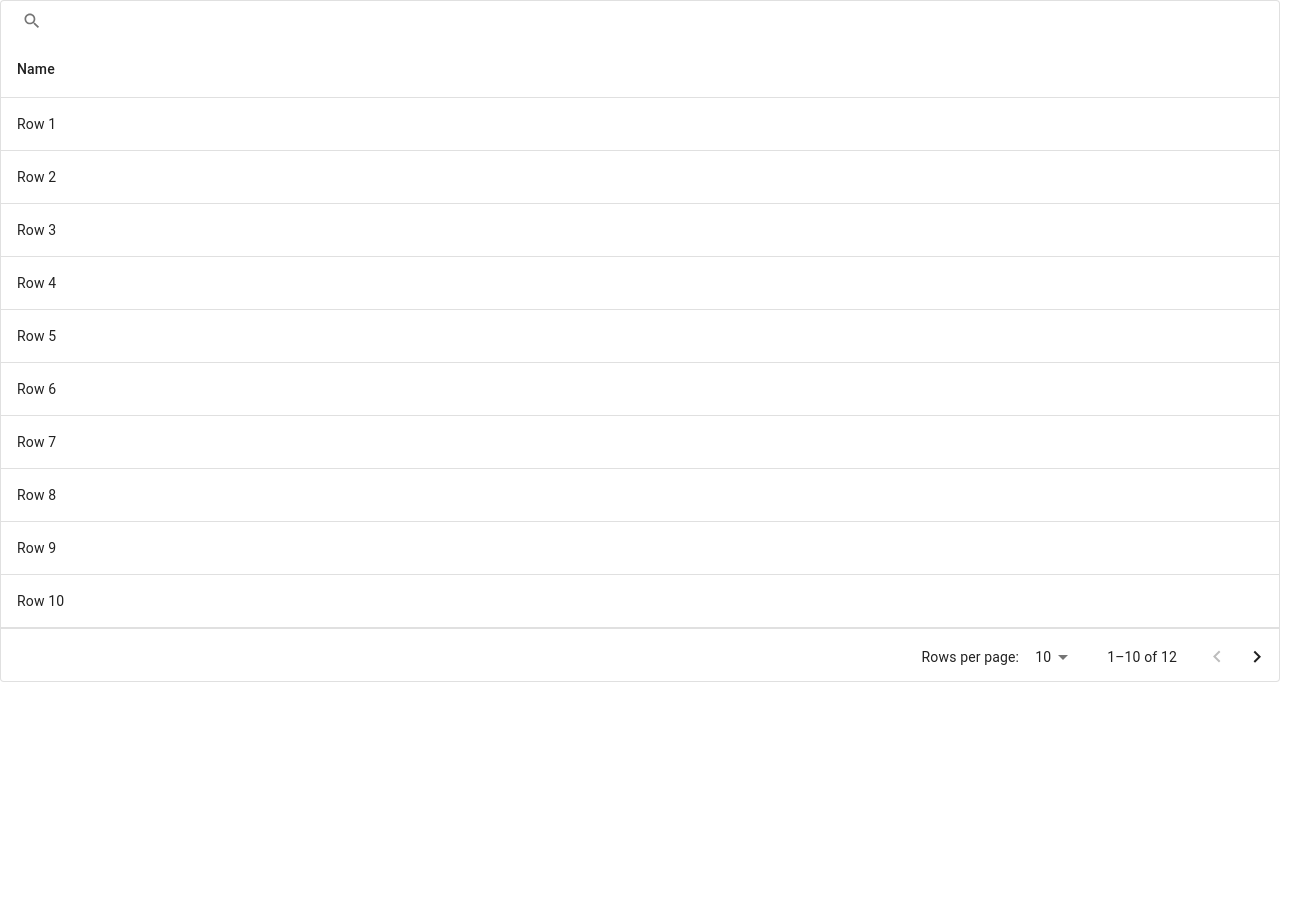
Test: ListTable › paginates rows on the client
Expected: the text "Row 1" is shown, [17,116,56,132]
Expected: the text "Row 11" is not shown
Click the button named "Go to next page" at (1257, 657), box [1237,637,1277,677]
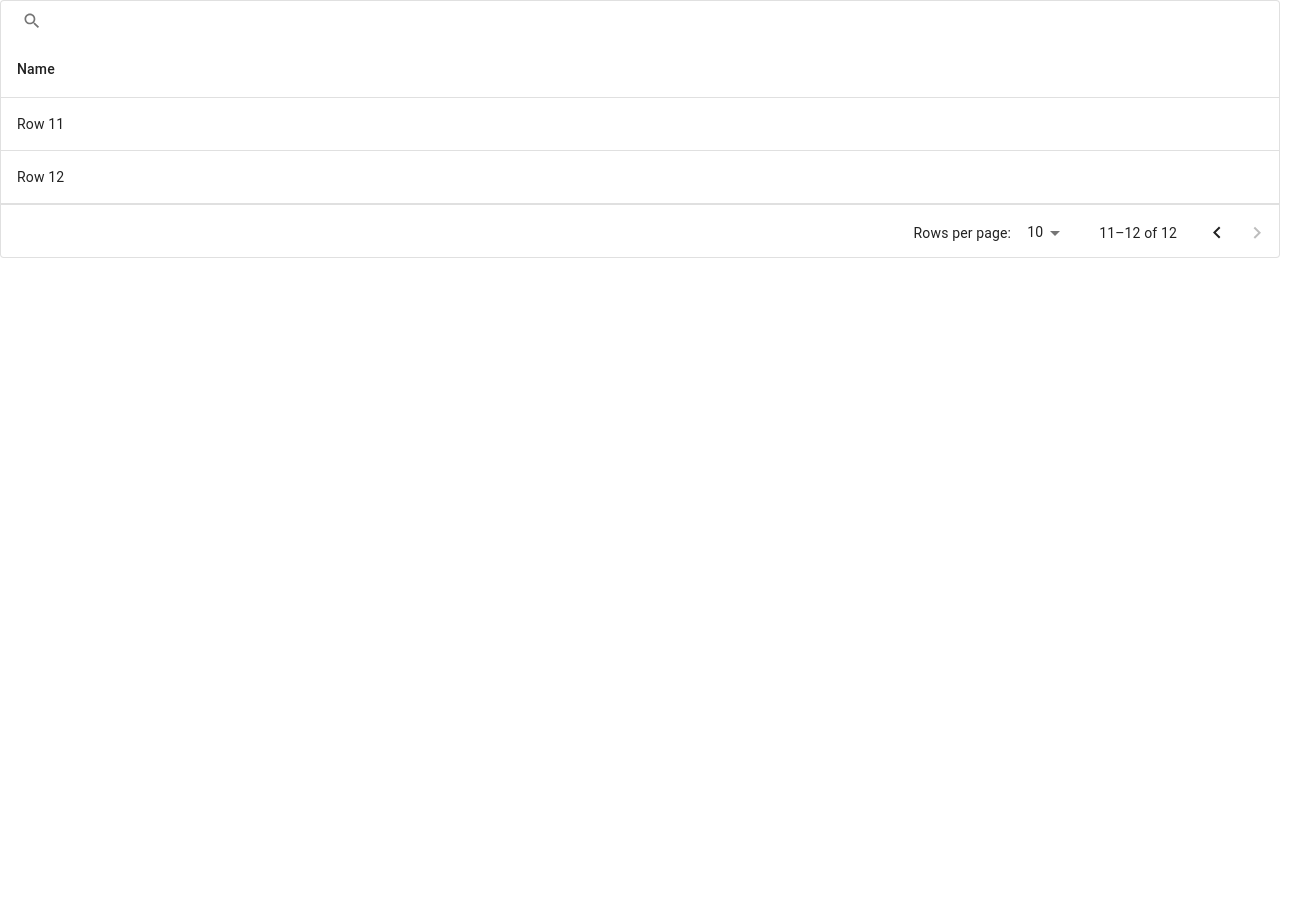
Now the text "Row 11" is shown, box [17,116,64,132]
